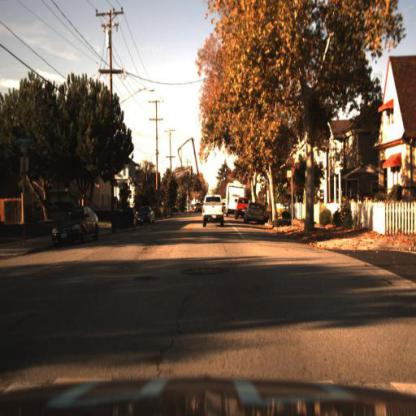car: (50, 201, 101, 249), (198, 192, 227, 232), (245, 202, 266, 228), (135, 204, 156, 228), (236, 197, 252, 222)
truck: (225, 178, 249, 220)
